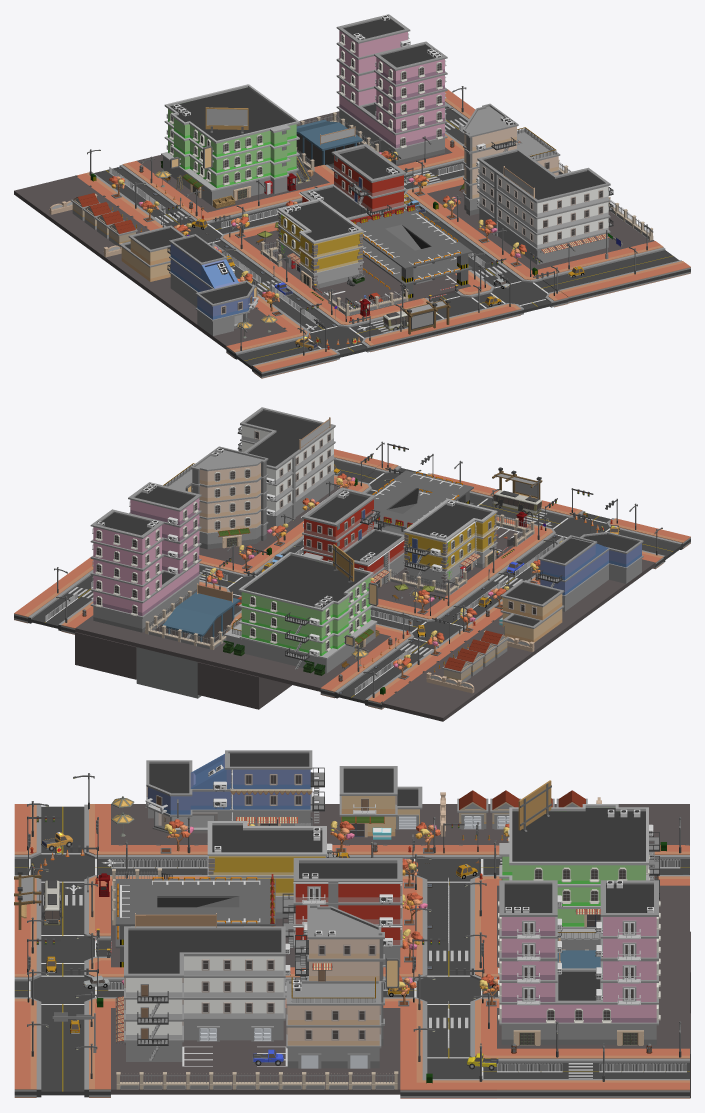
File: City Scene.fbx
3 renders of one model, top to bottom at view 1: azimuth 30°, elevation 25°; view 2: azimuth 150°, elevation 25°; view 3: azimuth 270°, elevation 25°, orthographic. The views are drawn at different scales.
Visible parts, largest first — view 1: Cube.402, Cube.212, Cube.373, Cube.167, Cube.245, Cube.172, Cube.097, Cube.350, Cube.283, Cube.100, Cube.333, Cube.209 (+21 smaller); view 2: Cube.402, Cube.212, Cube.373, Cube.167, Cube.333, Cube.172, Cube.283, Cube.097, Cube.209, Cube.100, Cube.245, Cube.349 (+31 smaller); view 3: Cube.402, Cube.373, Cube.212, Cube.333, Cube.349, Cube.172, Cube.334, Cube.350, Cube.167, Cube.245, Cube.170, Cube.283 (+34 smaller).
Boxes of the visible parts, x1,y1,x2,y2 form: Cube.402: [336, 14, 447, 164]; Cube.212: [161, 84, 299, 205]; Cube.373: [477, 148, 610, 264]; Cube.167: [14, 176, 287, 349]; Cube.245: [356, 210, 472, 298]; Cube.172: [169, 234, 254, 335]; Cube.097: [277, 198, 363, 288]; Cube.350: [538, 241, 690, 303]; Cube.283: [300, 143, 406, 222]; Cube.100: [217, 238, 348, 330]; Cube.333: [463, 103, 560, 215]; Cube.209: [77, 161, 206, 226]; Cube.402: [90, 482, 201, 632]; Cube.212: [224, 552, 377, 673]; Cube.373: [240, 407, 335, 529]; Cube.167: [382, 559, 655, 721]; Cube.333: [166, 446, 268, 549]; Cube.172: [538, 532, 643, 611]; Cube.283: [302, 487, 404, 584]; Cube.097: [403, 499, 497, 587]; Cube.209: [320, 636, 450, 709]; Cube.100: [427, 533, 556, 625]; Cube.245: [373, 470, 473, 534]; Cube.349: [14, 561, 93, 634]; Cube.402: [499, 880, 658, 1044]; Cube.373: [124, 926, 285, 1061]; Cube.212: [499, 804, 648, 950]; Cube.333: [286, 904, 384, 1068]; Cube.349: [497, 1048, 689, 1098]; Cube.172: [145, 750, 312, 825]; Cube.334: [111, 1048, 400, 1094]; Cube.350: [14, 1007, 110, 1097]; Cube.167: [111, 804, 689, 844]; Cube.245: [115, 879, 275, 967]; Cube.170: [400, 885, 496, 969]; Cube.283: [293, 858, 402, 967].
Size of the model in its own units: 86.72 by 86.73 by 26.65.
